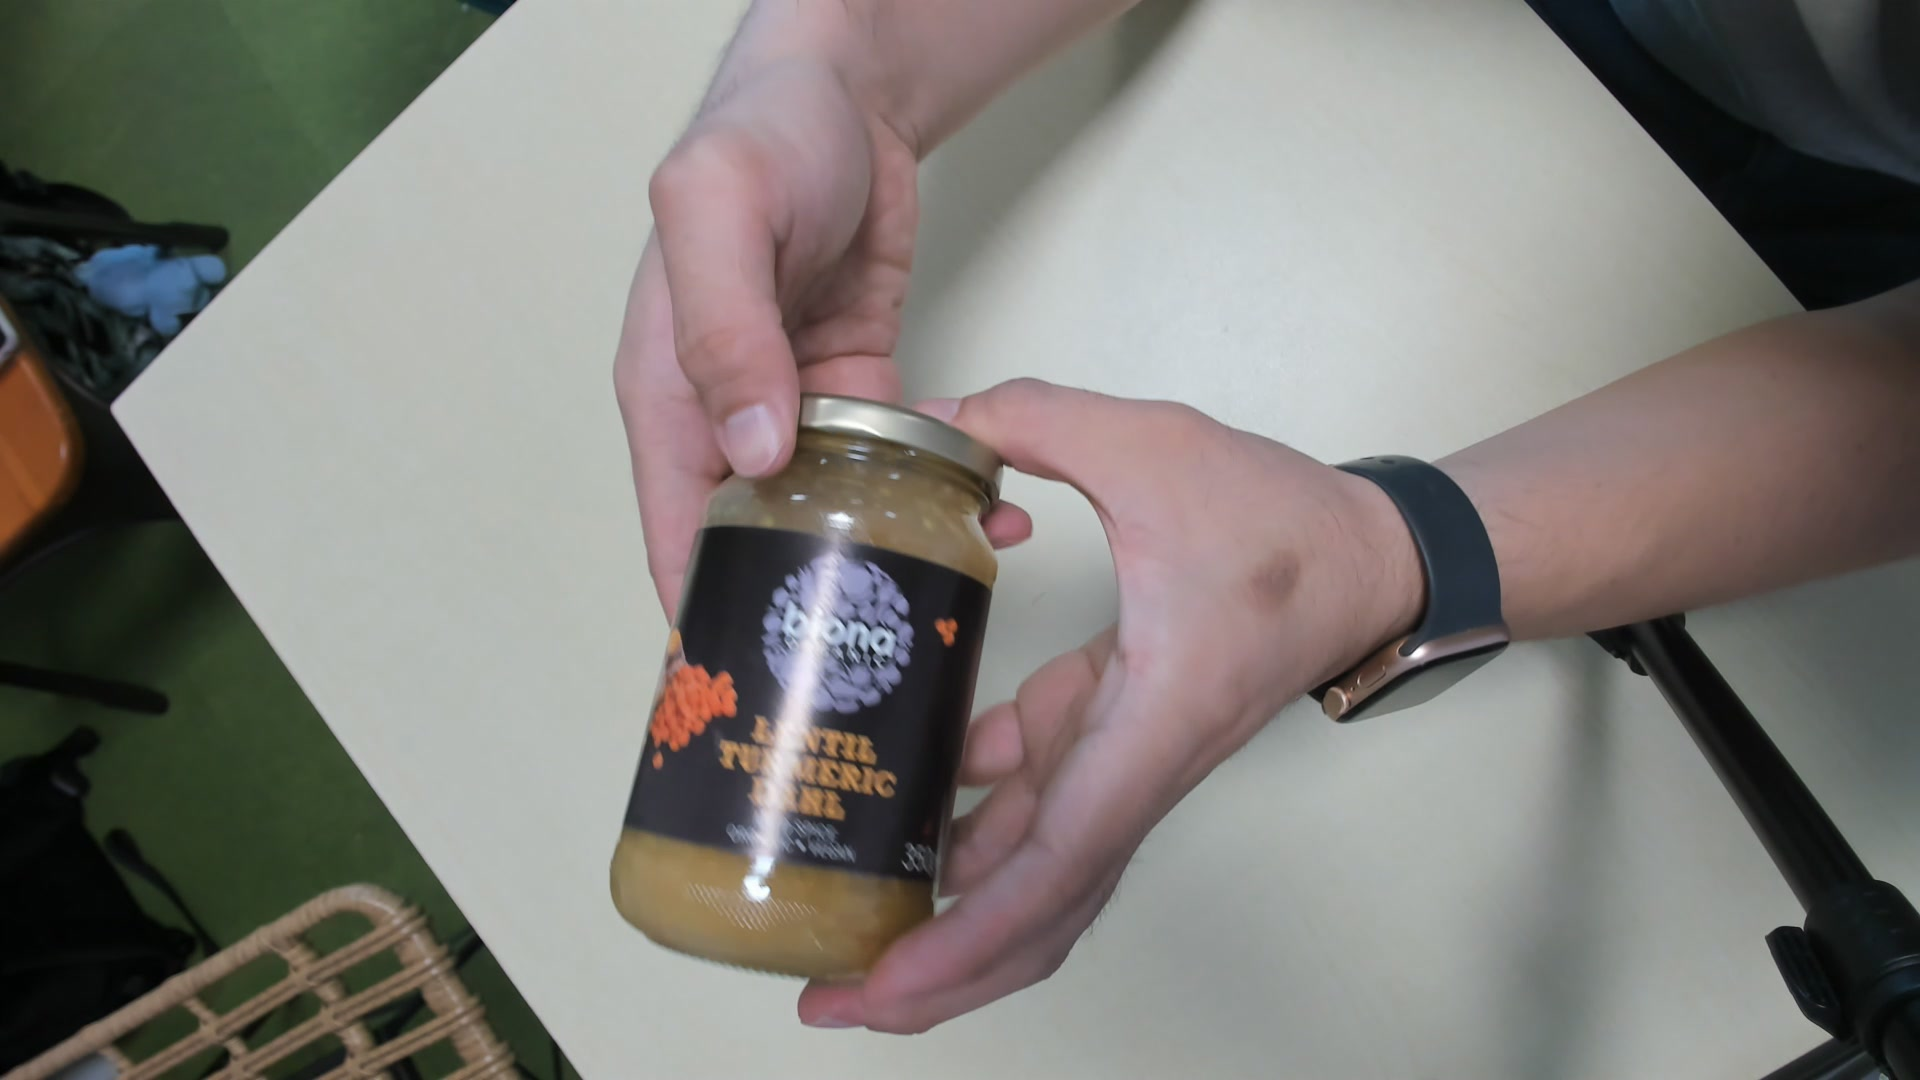OtherSauceDressing_300-399g_NonHalal_NonHealthy: (609, 375, 1000, 996)
